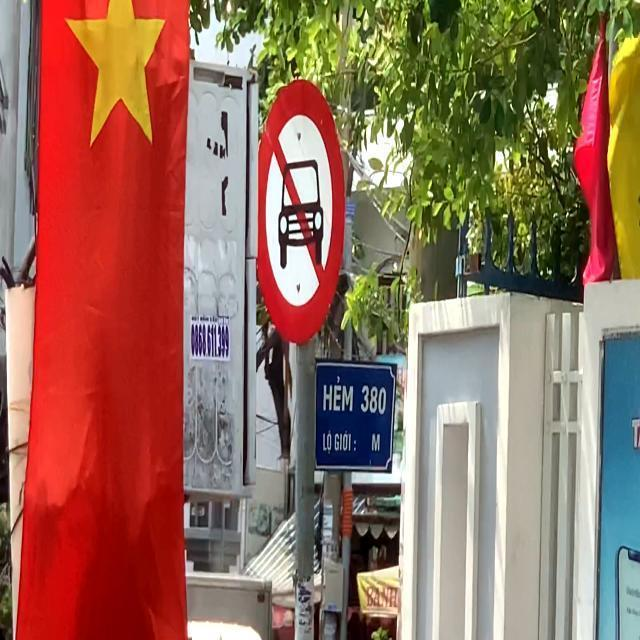103a-cam-oto: (253, 77, 347, 343)
